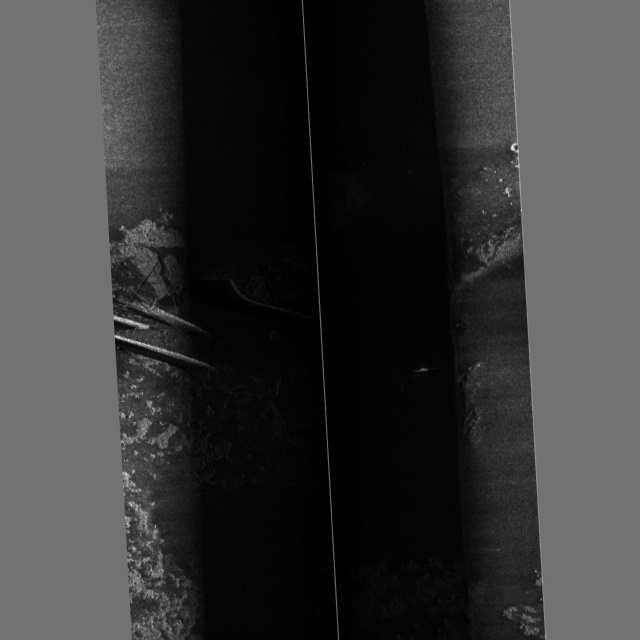Shipwreck: (108, 225, 480, 456)
